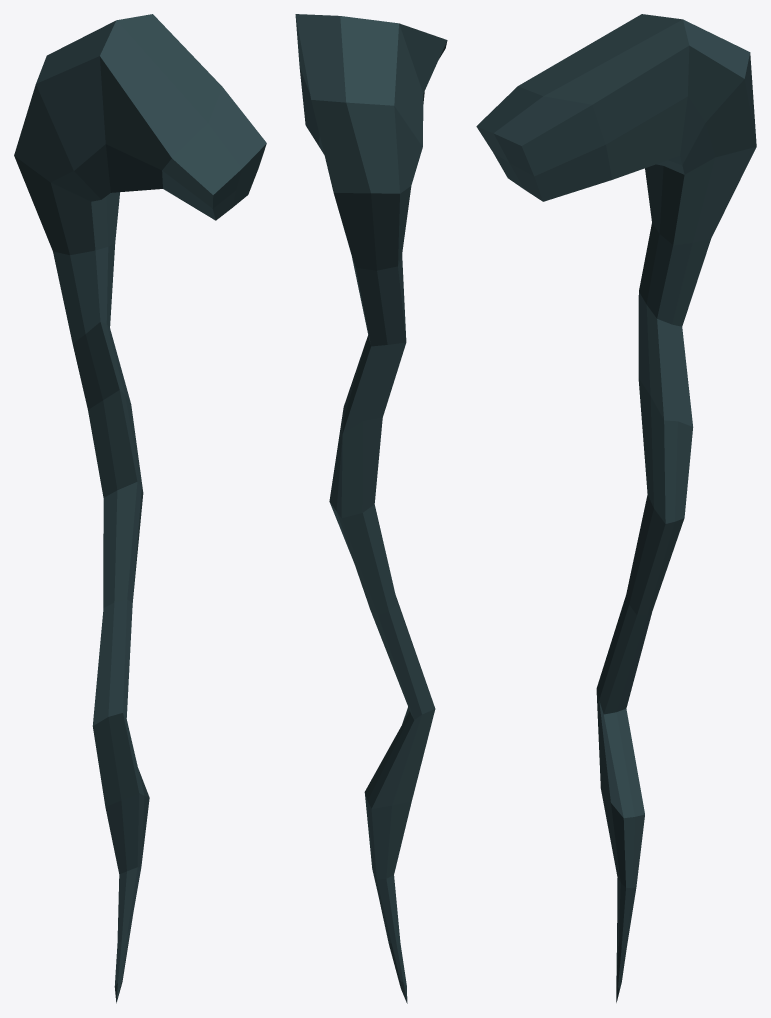
The model's file is Vine_1.fbx.
The picture shows the model from 3 angles, left to right: view 1: azimuth 30°, elevation 25°; view 2: azimuth 150°, elevation 25°; view 3: azimuth 270°, elevation 25°; orthographic projection. The views are drawn at different scales.
Parts seen in each view (by area): view 1: Vine 1; view 2: Vine 1; view 3: Vine 1.
Part boxes in pixels (<box>): Vine 1: <box>14,14,266,1003</box>; Vine 1: <box>295,14,447,1003</box>; Vine 1: <box>476,14,756,1002</box>.
Size of the model in its own units: 615 by 3655 by 928.
